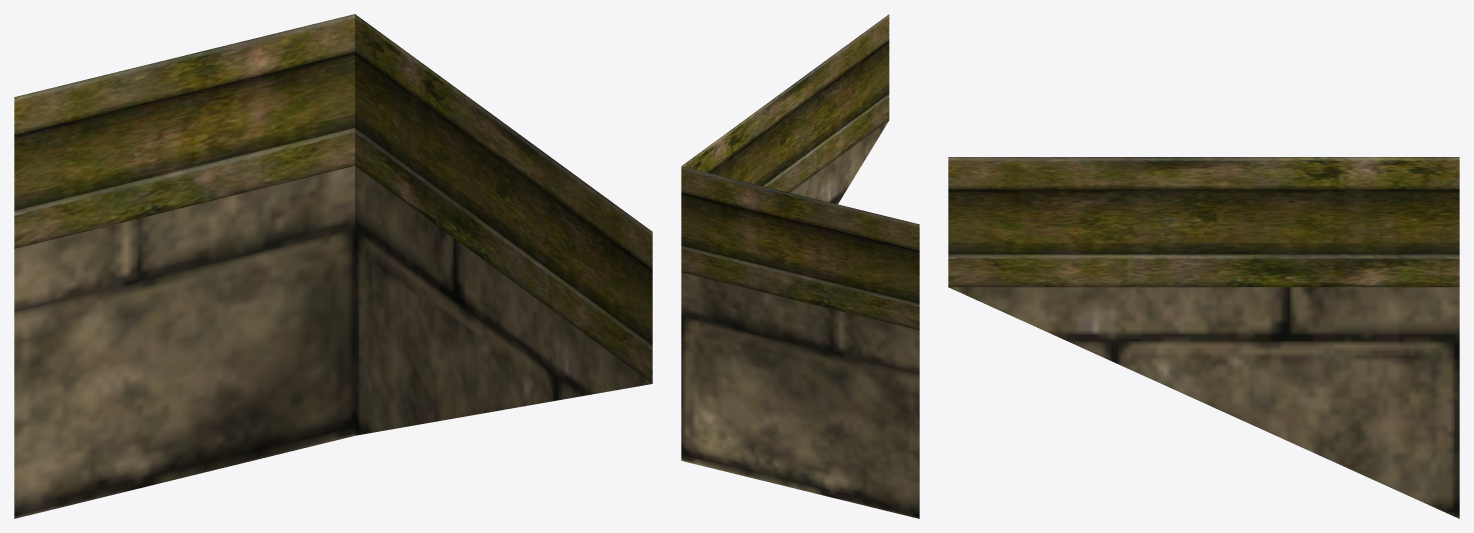
Rendered from OVERHILL_A_01_LINE221.fbx.
3 views of the same model, side by side, from view 1: azimuth 30°, elevation 25°; view 2: azimuth 150°, elevation 25°; view 3: azimuth 270°, elevation 25° (orthographic). The views are drawn at different scales.
Visible parts, largest first — view 1: OVERHILL_A_01_LINE221; view 2: OVERHILL_A_01_LINE221; view 3: OVERHILL_A_01_LINE221.
Boxes of the visible parts, bbox=[...] form: OVERHILL_A_01_LINE221: bbox=[14, 14, 652, 518]; OVERHILL_A_01_LINE221: bbox=[681, 14, 919, 518]; OVERHILL_A_01_LINE221: bbox=[948, 157, 1459, 518].
Bounding box in the file's own units: 13224 × 15634 × 20000.
2 materials, 2 textured.
